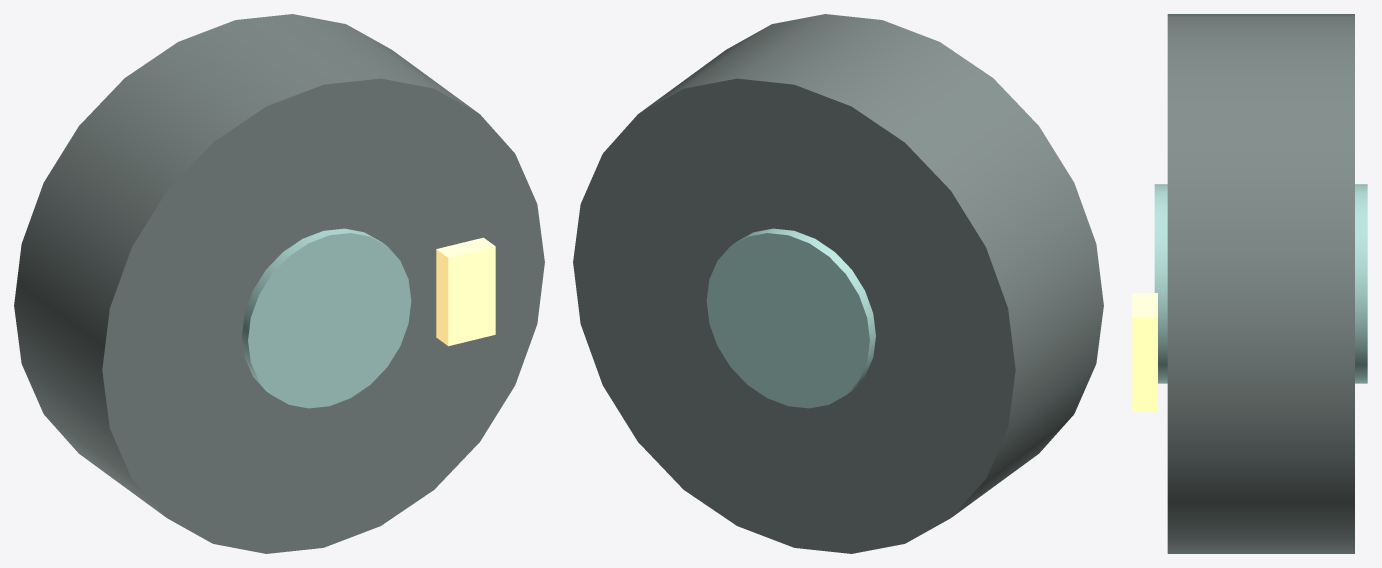
The model's file is track_road_grip.glb.
3 views of the same model, side by side, from view 1: azimuth 30°, elevation 25°; view 2: azimuth 150°, elevation 25°; view 3: azimuth 270°, elevation 25° (orthographic). The views are drawn at different scales.
Visible parts, largest first — view 1: grip_road_wheel, grip_hub, grip_rotation_witness; view 2: grip_road_wheel, grip_hub; view 3: grip_road_wheel, grip_hub, grip_rotation_witness.
Part boxes in pixels (left/top/right/bottom): grip_road_wheel: left=14, top=14, right=544, bottom=553; grip_hub: left=242, top=228, right=411, bottom=408; grip_rotation_witness: left=436, top=237, right=495, bottom=346; grip_road_wheel: left=573, top=14, right=1103, bottom=553; grip_hub: left=706, top=228, right=875, bottom=408; grip_road_wheel: left=1167, top=14, right=1354, bottom=553; grip_hub: left=1154, top=184, right=1367, bottom=383; grip_rotation_witness: left=1132, top=293, right=1157, bottom=411.
Size of the model in its own units: 0.168 by 0.168 by 0.073.
